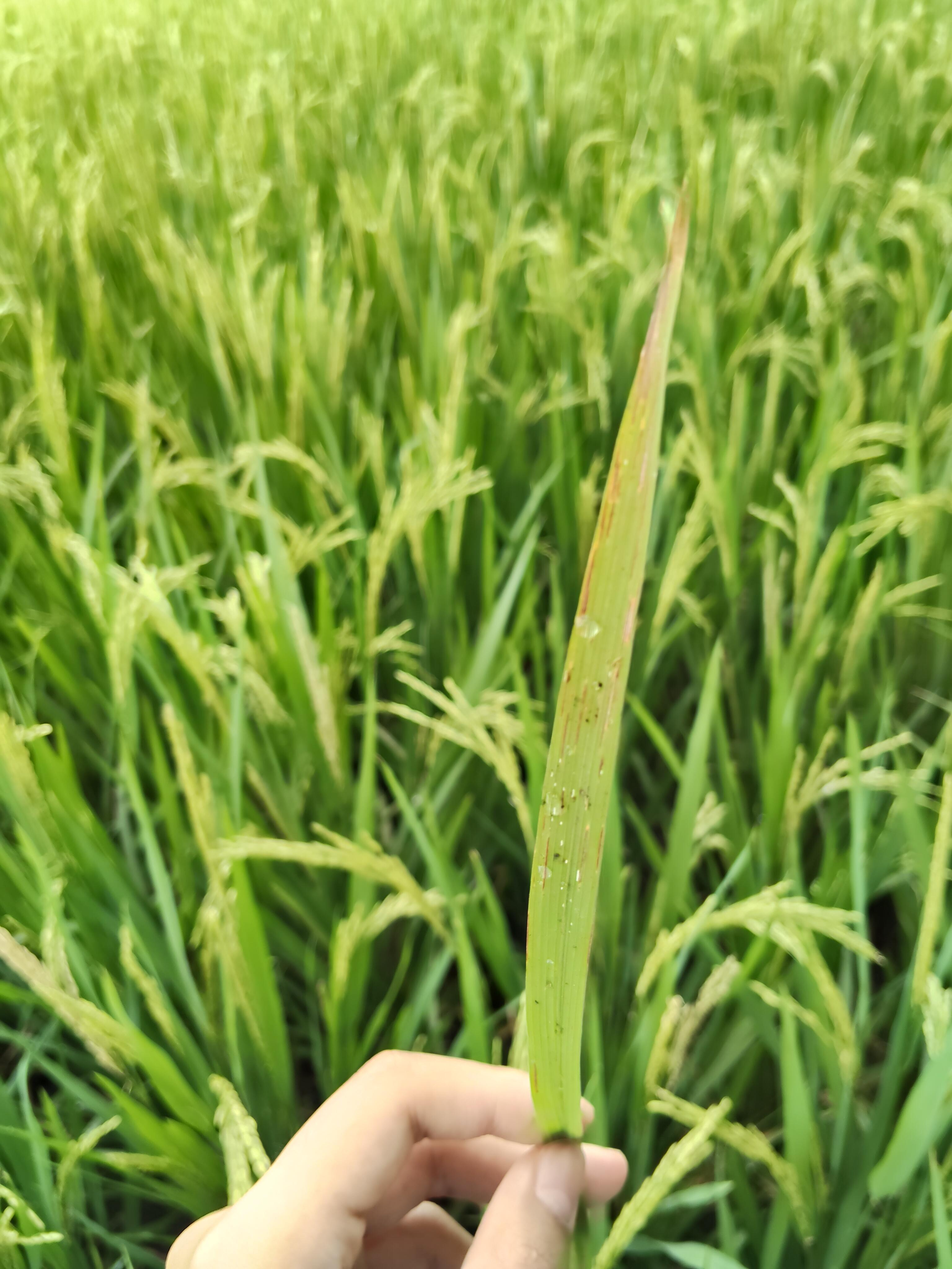NBS: (600, 660, 622, 745), (606, 444, 623, 538), (581, 543, 600, 614), (576, 688, 586, 744), (542, 837, 550, 892), (602, 492, 610, 534), (587, 923, 594, 966), (561, 715, 568, 756), (596, 828, 603, 868), (526, 914, 529, 962), (565, 668, 571, 687), (534, 1066, 538, 1093), (598, 759, 604, 776), (561, 701, 565, 716), (561, 792, 564, 809), (543, 817, 545, 830)
